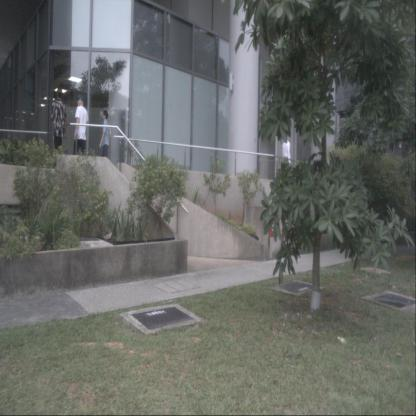human-pedestrian-adult: (50, 86, 66, 174), (72, 94, 88, 179), (99, 110, 110, 178), (282, 132, 291, 186)
